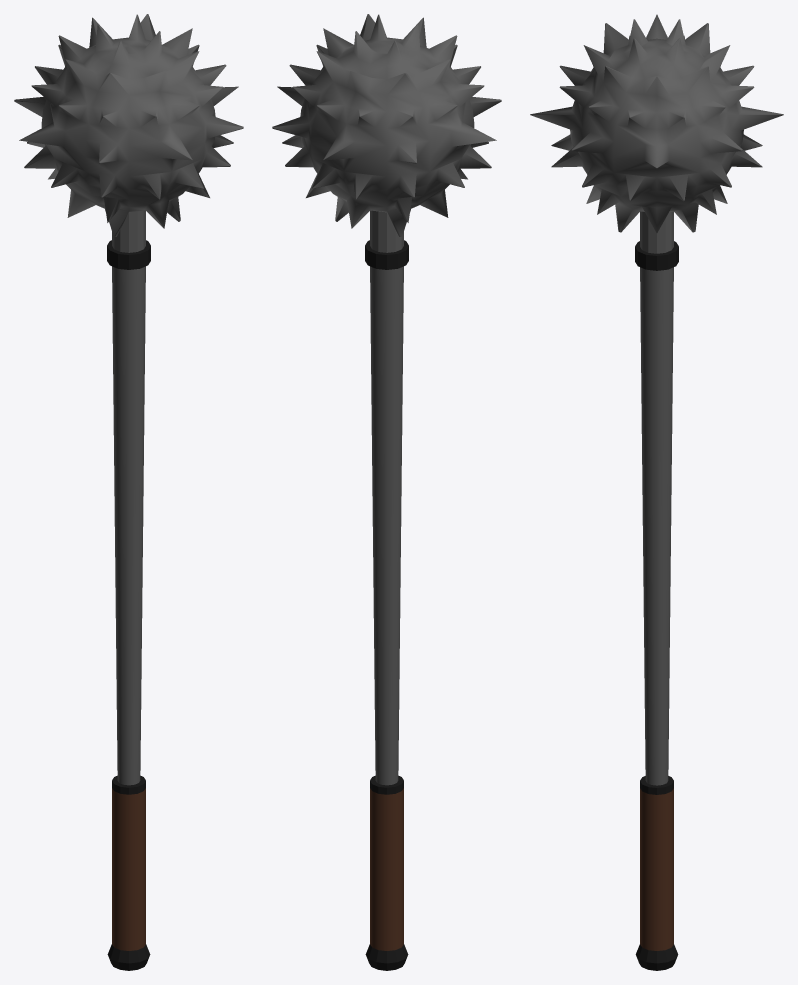
Rendered from MorningStar.fbx.
3 views of the same model, side by side, from view 1: azimuth 30°, elevation 25°; view 2: azimuth 150°, elevation 25°; view 3: azimuth 270°, elevation 25° (orthographic).
Parts seen in each view (by area): view 1: MorningStar; view 2: MorningStar; view 3: MorningStar.
Boxes of the visible parts, x1,y1,x2,y2 form: MorningStar: (14, 14, 243, 970); MorningStar: (272, 14, 501, 970); MorningStar: (530, 14, 783, 970).
Size of the model in its own units: 0.6026 by 2.46 by 0.6027.
